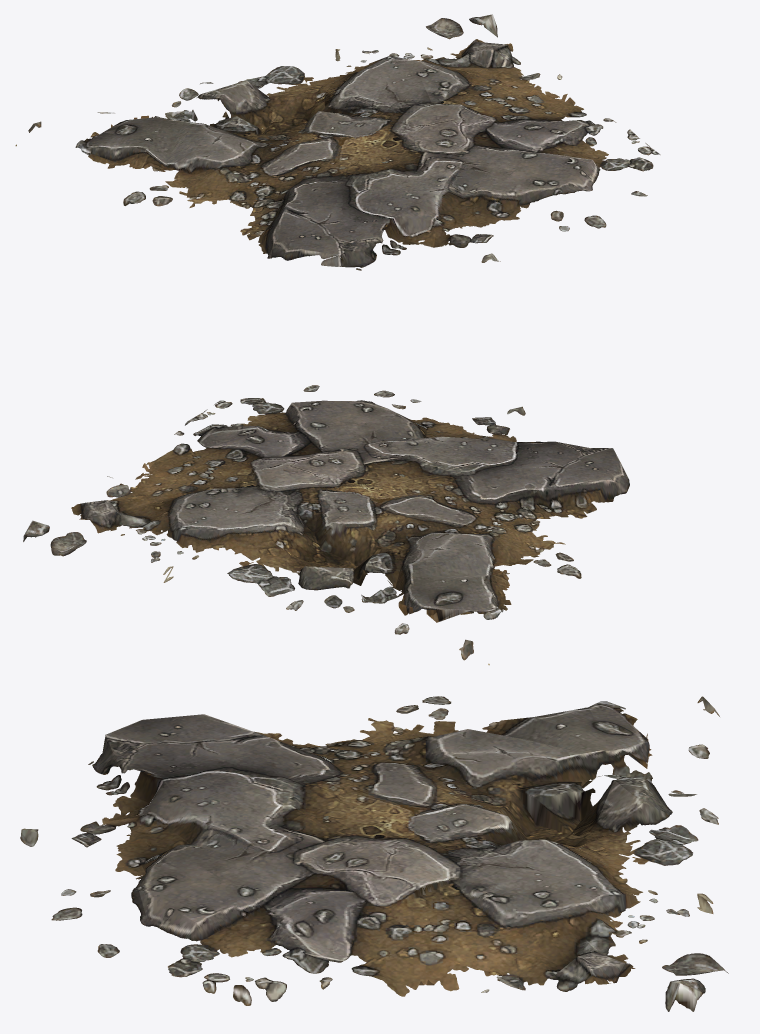
The model's file is ground_decal_1.FBX.
3 renders of one model, top to bottom at view 1: azimuth 30°, elevation 25°; view 2: azimuth 150°, elevation 25°; view 3: azimuth 270°, elevation 25°, orthographic. The views are drawn at different scales.
Parts seen in each view (by area): view 1: decal_rubblerocks; view 2: decal_rubblerocks; view 3: decal_rubblerocks.
Part boxes in pixels (left/top/right/bottom): decal_rubblerocks: left=15, top=14, right=660, bottom=270; decal_rubblerocks: left=23, top=385, right=629, bottom=665; decal_rubblerocks: left=20, top=696, right=728, bottom=1011.
Bounding box in the file's own units: 250 × 17.77 × 250.
